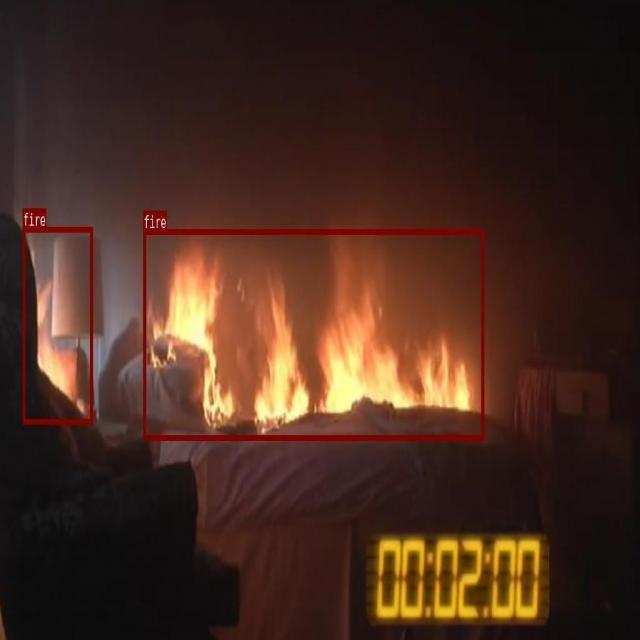fire: (143, 228, 484, 439), (23, 226, 93, 423)
